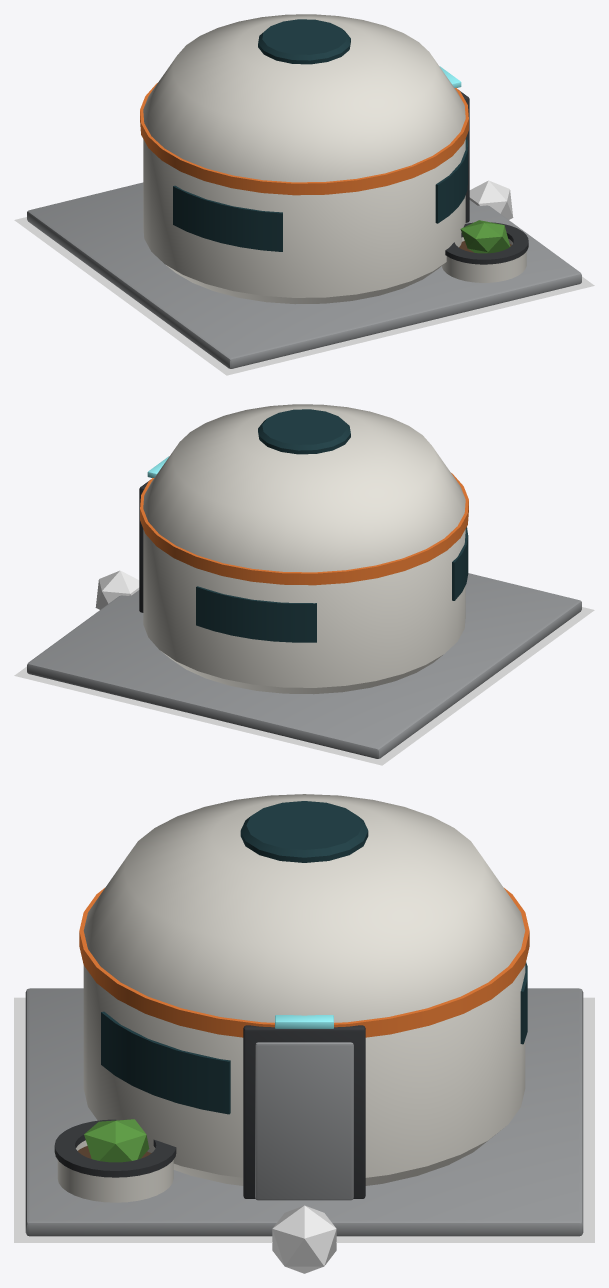
File: residence_1x1.gltf
3 renders of one model, top to bottom at view 1: azimuth 30°, elevation 25°; view 2: azimuth 150°, elevation 25°; view 3: azimuth 270°, elevation 25°, orthographic. The views are drawn at different scales.
Visible parts, largest first — view 1: Residence, %P%Footprint, %P%AnchorIn; view 2: Residence, %P%Footprint, %P%AnchorIn; view 3: Residence, %P%Footprint, %P%AnchorIn.
Part boxes in pixels (left/top/right/bottom): Residence: left=27, top=14, right=581, bottom=368; %P%Footprint: left=14, top=217, right=594, bottom=375; %P%AnchorIn: left=469, top=180, right=513, bottom=219; Residence: left=27, top=404, right=581, bottom=758; %P%Footprint: left=14, top=607, right=594, bottom=765; %P%AnchorIn: left=95, top=570, right=139, bottom=609; Residence: left=25, top=794, right=583, bottom=1236; %P%Footprint: left=14, top=997, right=594, bottom=1242; %P%AnchorIn: left=272, top=1205, right=336, bottom=1273.
Bounding box in the file's own units: 2.12 × 1.31 × 2.
